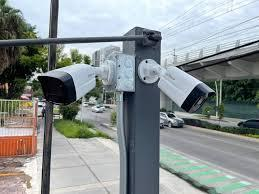tutu: (155, 64, 216, 114), (36, 60, 99, 105)
